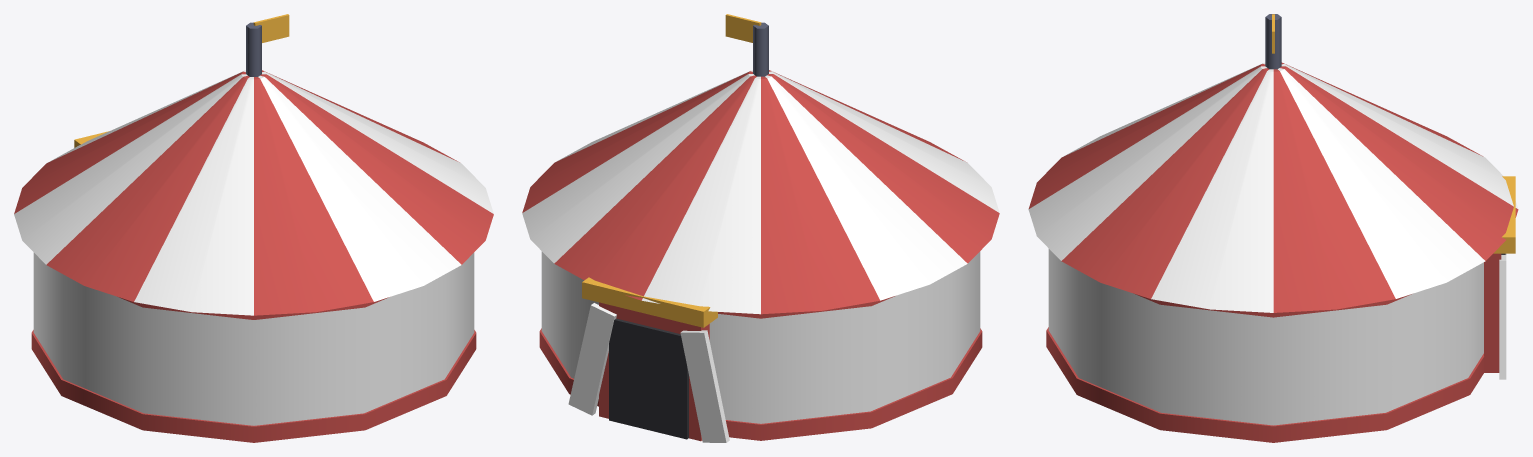
Rendered from chapiteau.glb.
3 renders of one model, left to right at view 1: azimuth 30°, elevation 25°; view 2: azimuth 150°, elevation 25°; view 3: azimuth 270°, elevation 25°, orthographic. The views are drawn at different scales.
Parts seen in each view (by area): view 1: paroi, toit-secteur-10, toit-secteur-11, toit-secteur-0, toit-secteur-9, toit-secteur-1, toit-secteur-8, paroi-plinthe, toit-secteur-2, toit-secteur-7, mat-fanion, paroi-bandeau (+3 smaller); view 2: paroi, toit-secteur-7, toit-secteur-6, toit-secteur-8, toit-secteur-5, toit-secteur-4, toit-secteur-9, entree-ouverture, paroi-plinthe, toit-secteur-3, toit-secteur-10, pan-releve-0 (+6 smaller); view 3: paroi, toit-secteur-2, toit-secteur-3, toit-secteur-1, toit-secteur-4, toit-secteur-0, toit-secteur-5, paroi-plinthe, toit-secteur-11, toit-secteur-6, entree-cadre, pan-releve-1 (+5 smaller).
Part boxes in pixels (<box>): paroi: <box>33,252,474,425</box>; toit-secteur-10: <box>134,77,253,315</box>; toit-secteur-11: <box>254,77,373,315</box>; toit-secteur-0: <box>258,75,461,301</box>; toit-secteur-9: <box>46,75,249,301</box>; toit-secteur-1: <box>260,74,493,264</box>; toit-secteur-8: <box>14,74,247,264</box>; paroi-plinthe: <box>31,330,476,442</box>; toit-secteur-2: <box>262,71,493,213</box>; toit-secteur-7: <box>14,71,245,213</box>; mat-fanion: <box>246,22,261,76</box>; paroi-bandeau: <box>119,297,388,319</box>; paroi: <box>541,251,980,423</box>; toit-secteur-7: <box>761,76,879,314</box>; toit-secteur-6: <box>642,76,760,314</box>; toit-secteur-8: <box>765,75,967,300</box>; toit-secteur-5: <box>554,75,756,300</box>; toit-secteur-4: <box>522,74,754,263</box>; toit-secteur-9: <box>767,74,999,263</box>; entree-ouverture: <box>609,318,688,439</box>; paroi-plinthe: <box>539,328,982,440</box>; toit-secteur-3: <box>522,71,752,212</box>; toit-secteur-10: <box>769,71,999,212</box>; pan-releve-0: <box>680,330,729,442</box>; paroi: <box>1048,249,1483,425</box>; toit-secteur-2: <box>1151,69,1273,312</box>; toit-secteur-3: <box>1273,69,1395,312</box>; toit-secteur-1: <box>1061,68,1268,298</box>; toit-secteur-4: <box>1278,68,1485,298</box>; toit-secteur-0: <box>1028,66,1266,260</box>; toit-secteur-5: <box>1280,66,1518,260</box>; paroi-plinthe: <box>1046,327,1484,442</box>; toit-secteur-11: <box>1028,64,1265,208</box>; toit-secteur-6: <box>1281,64,1518,208</box>; entree-cadre: <box>1484,253,1501,372</box>; pan-releve-1: <box>1499,255,1506,379</box>.
Bounding box in the file's own units: 0.4 × 0.3 × 0.4.
